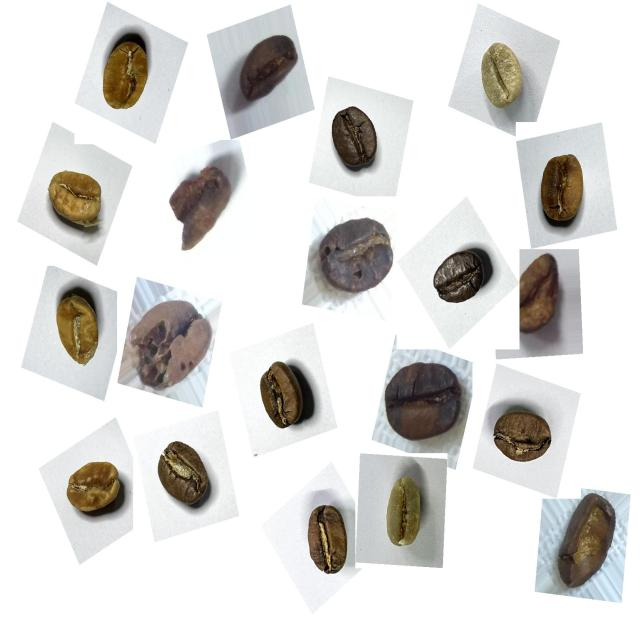bad: (129, 289, 221, 401), (376, 349, 468, 452), (546, 490, 627, 602), (312, 208, 400, 308), (163, 156, 241, 258), (230, 22, 304, 116), (518, 247, 575, 345)
dark: (321, 94, 391, 180), (424, 236, 495, 318)
green: (372, 466, 438, 562), (468, 32, 537, 122)
light: (92, 25, 165, 124), (42, 276, 110, 377), (39, 160, 113, 245)
medium: (529, 140, 599, 237), (147, 431, 221, 521), (486, 398, 565, 478), (58, 448, 132, 530), (293, 495, 359, 586), (248, 352, 316, 439)
